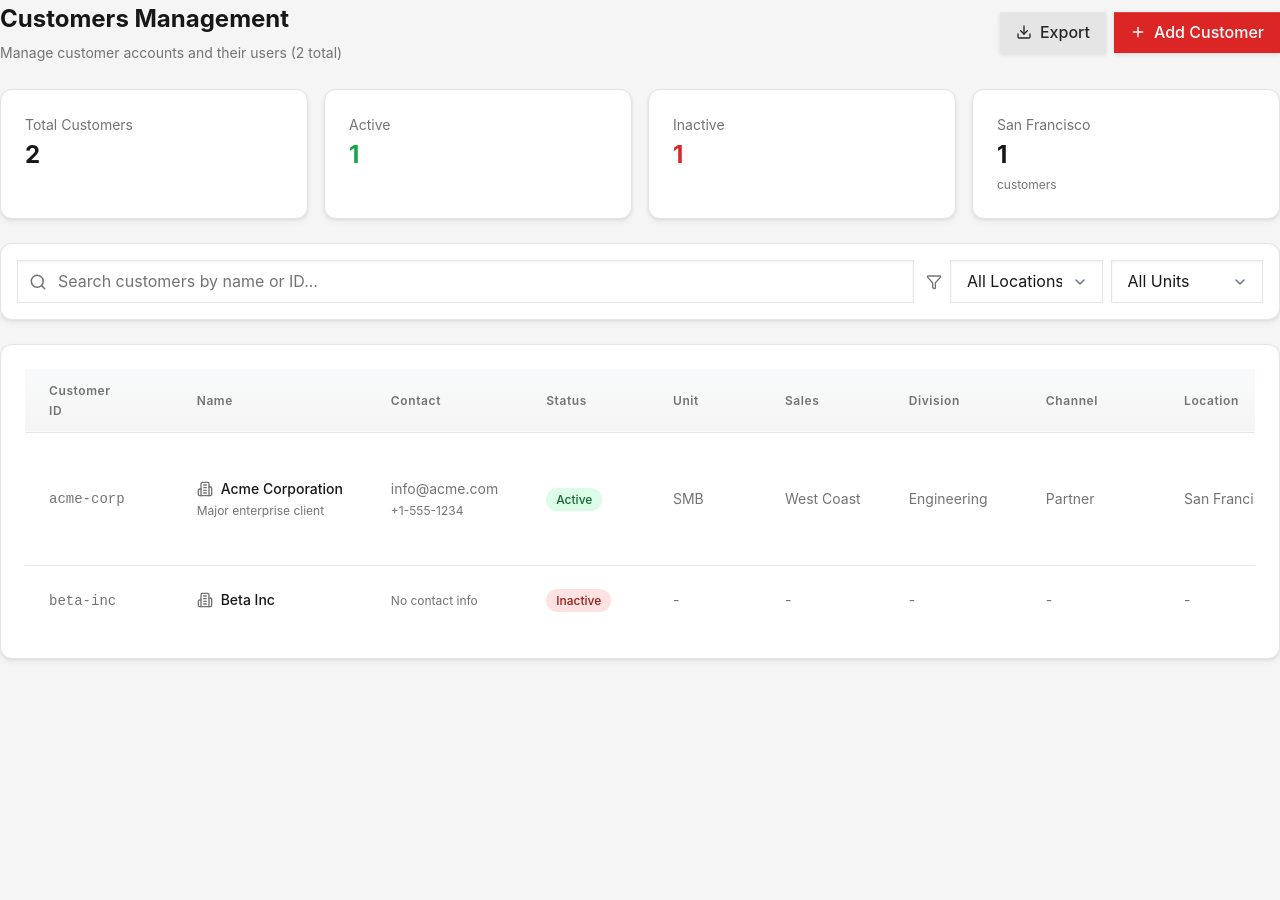
Scenario: CustomersManagement › opens create modal on Add Customer click
Check: the text "Acme Corporation" is shown, box [197, 478, 343, 501]
Click the button "Add Customer" at (1197, 32), box [1114, 12, 1279, 53]
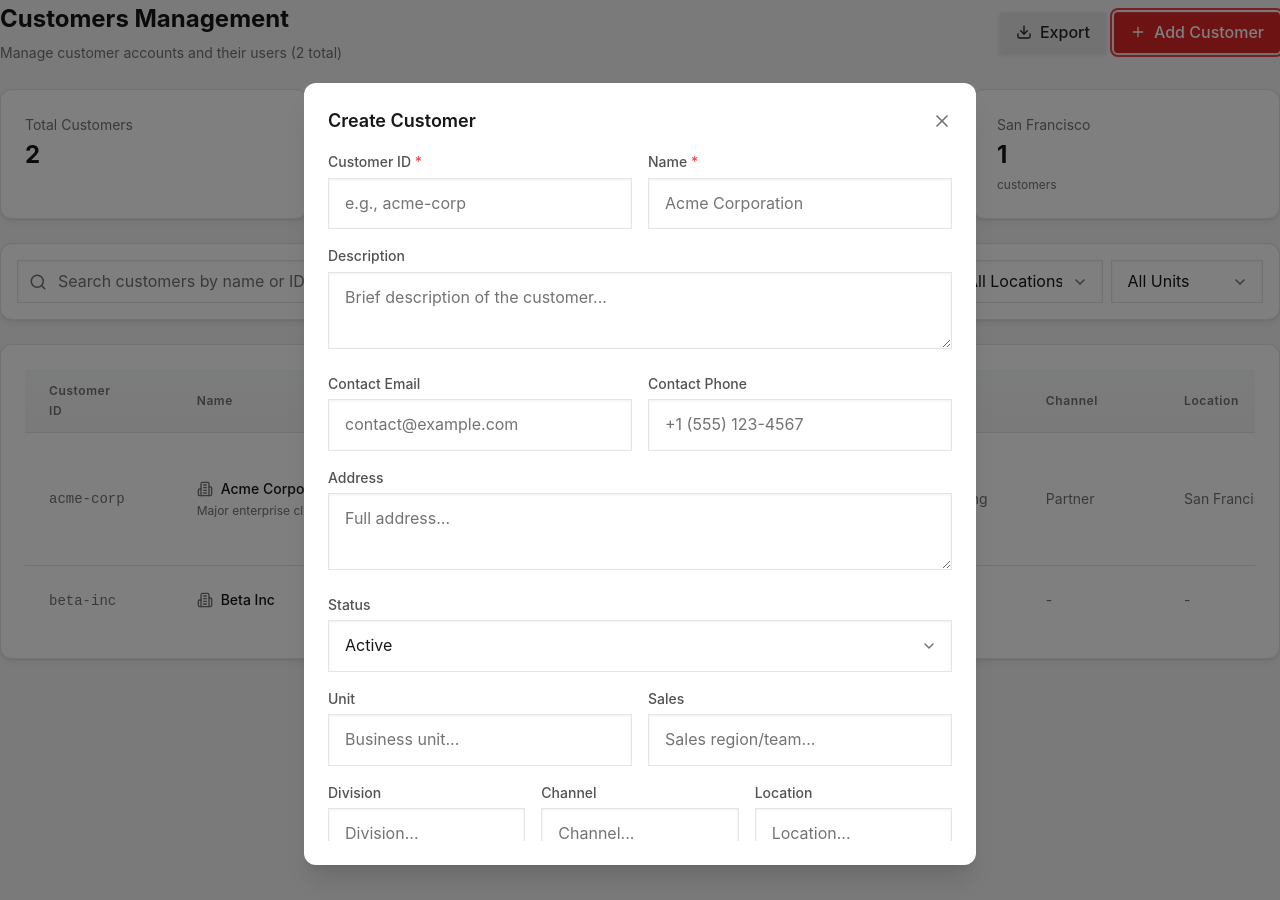
Check: the heading "Create Customer" is shown, box [328, 107, 476, 135]
